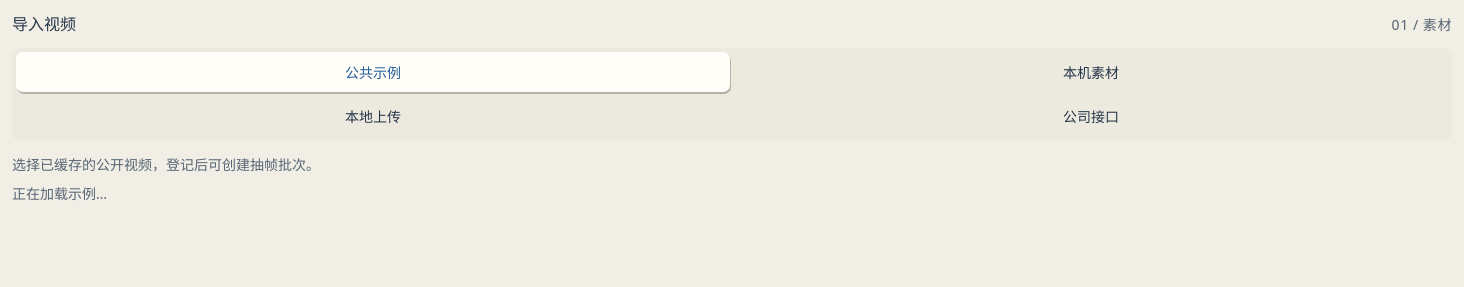
Test: video import interfaces › shows an unconfigured company API without invented lessons
Click the tab "公司接口".
click(1091, 116)  # box x1=734 y1=96 x2=1448 y2=136
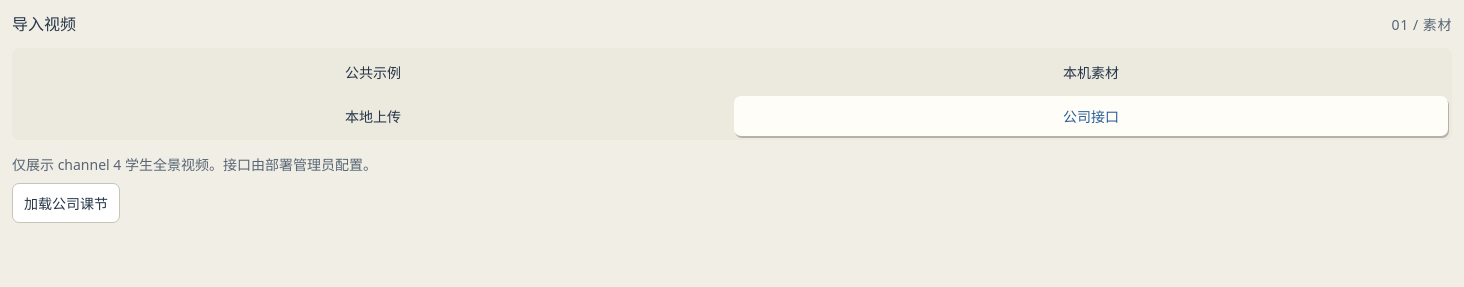
Click the button "加载公司课节".
click(66, 203)  # box x1=12 y1=183 x2=120 y2=223
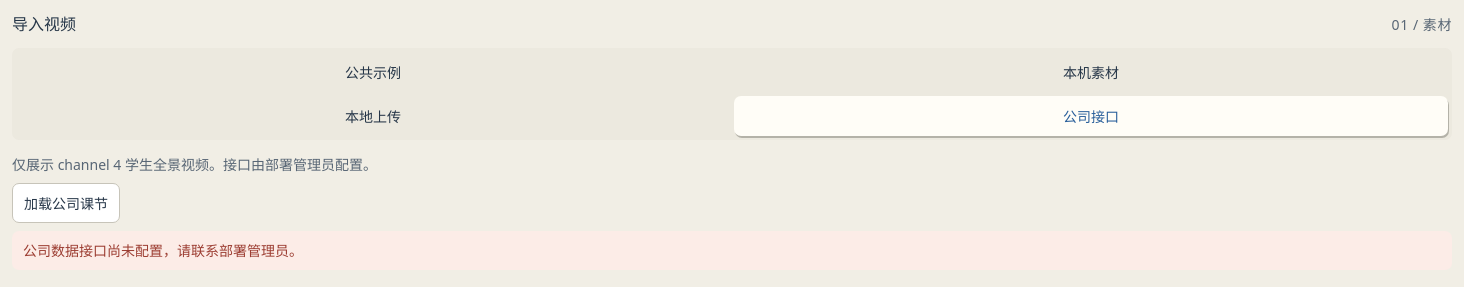
Result: the message reads "公司数据接口尚未配置，请联系部署管理员。" at x1=23 y1=241 x2=303 y2=260
